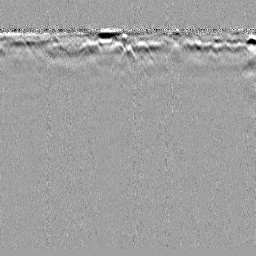cavity: (117, 44, 137, 63)
